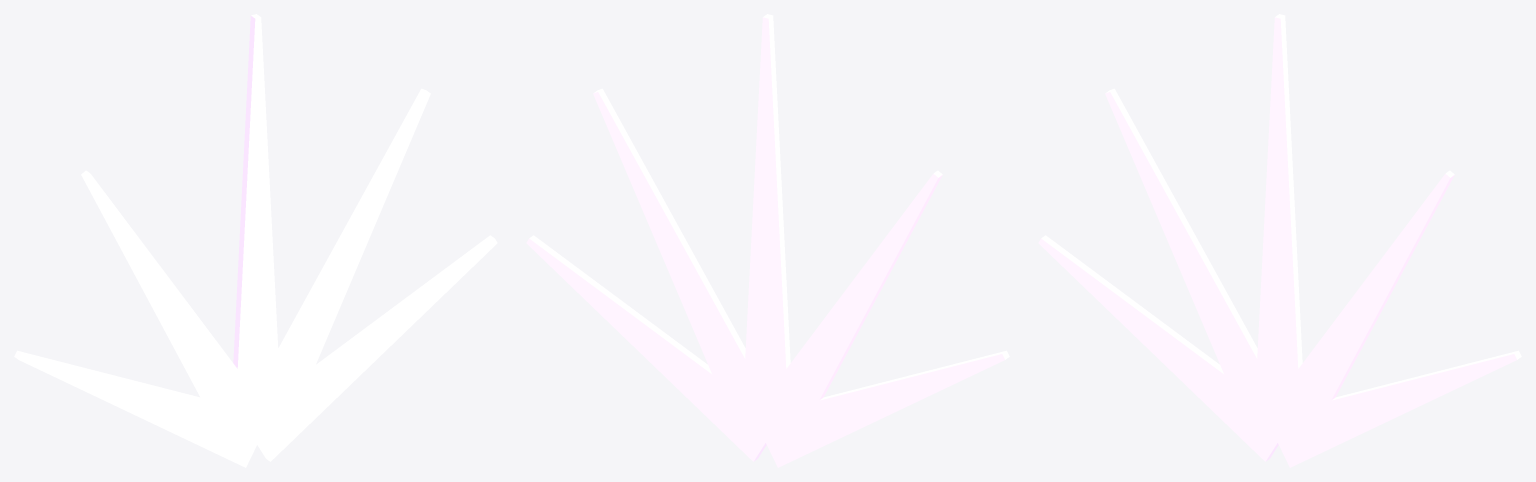
Rendered from dc_shade_fan.glb.
3 renders of one model, left to right at view 1: azimuth 30°, elevation 25°; view 2: azimuth 150°, elevation 25°; view 3: azimuth 330°, elevation 25°, orthographic.
Visible parts, largest first — view 1: part.dc_shade_fan; view 2: part.dc_shade_fan; view 3: part.dc_shade_fan.
Boxes of the visible parts, x1=… form: part.dc_shade_fan: x1=14, y1=14, x2=497, y2=467; part.dc_shade_fan: x1=526, y1=14, x2=1009, y2=467; part.dc_shade_fan: x1=1038, y1=14, x2=1521, y2=467.
Size of the model in its own units: 0.732 by 0.6525 by 0.012.
